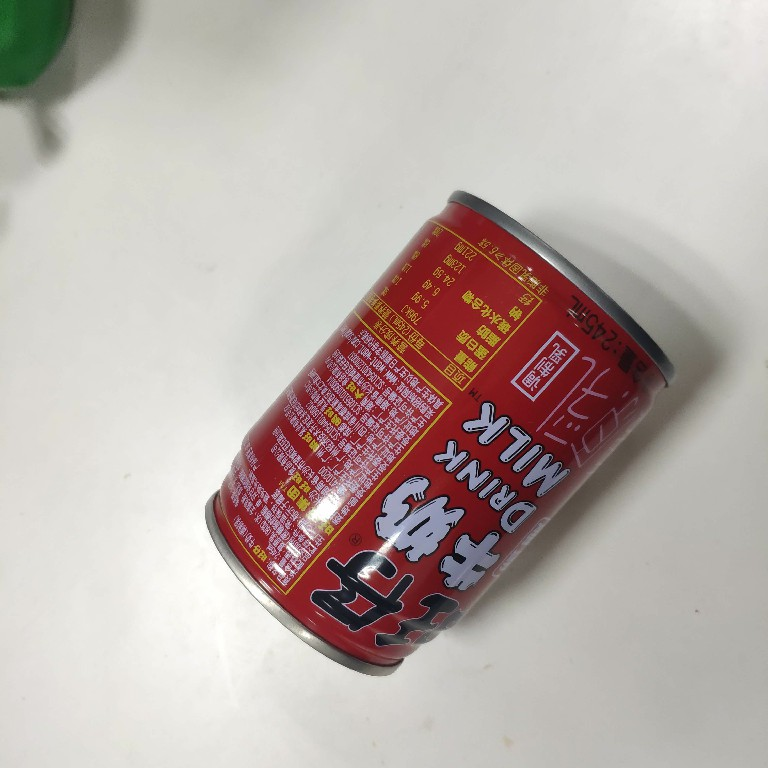can: (198, 185, 680, 683)
